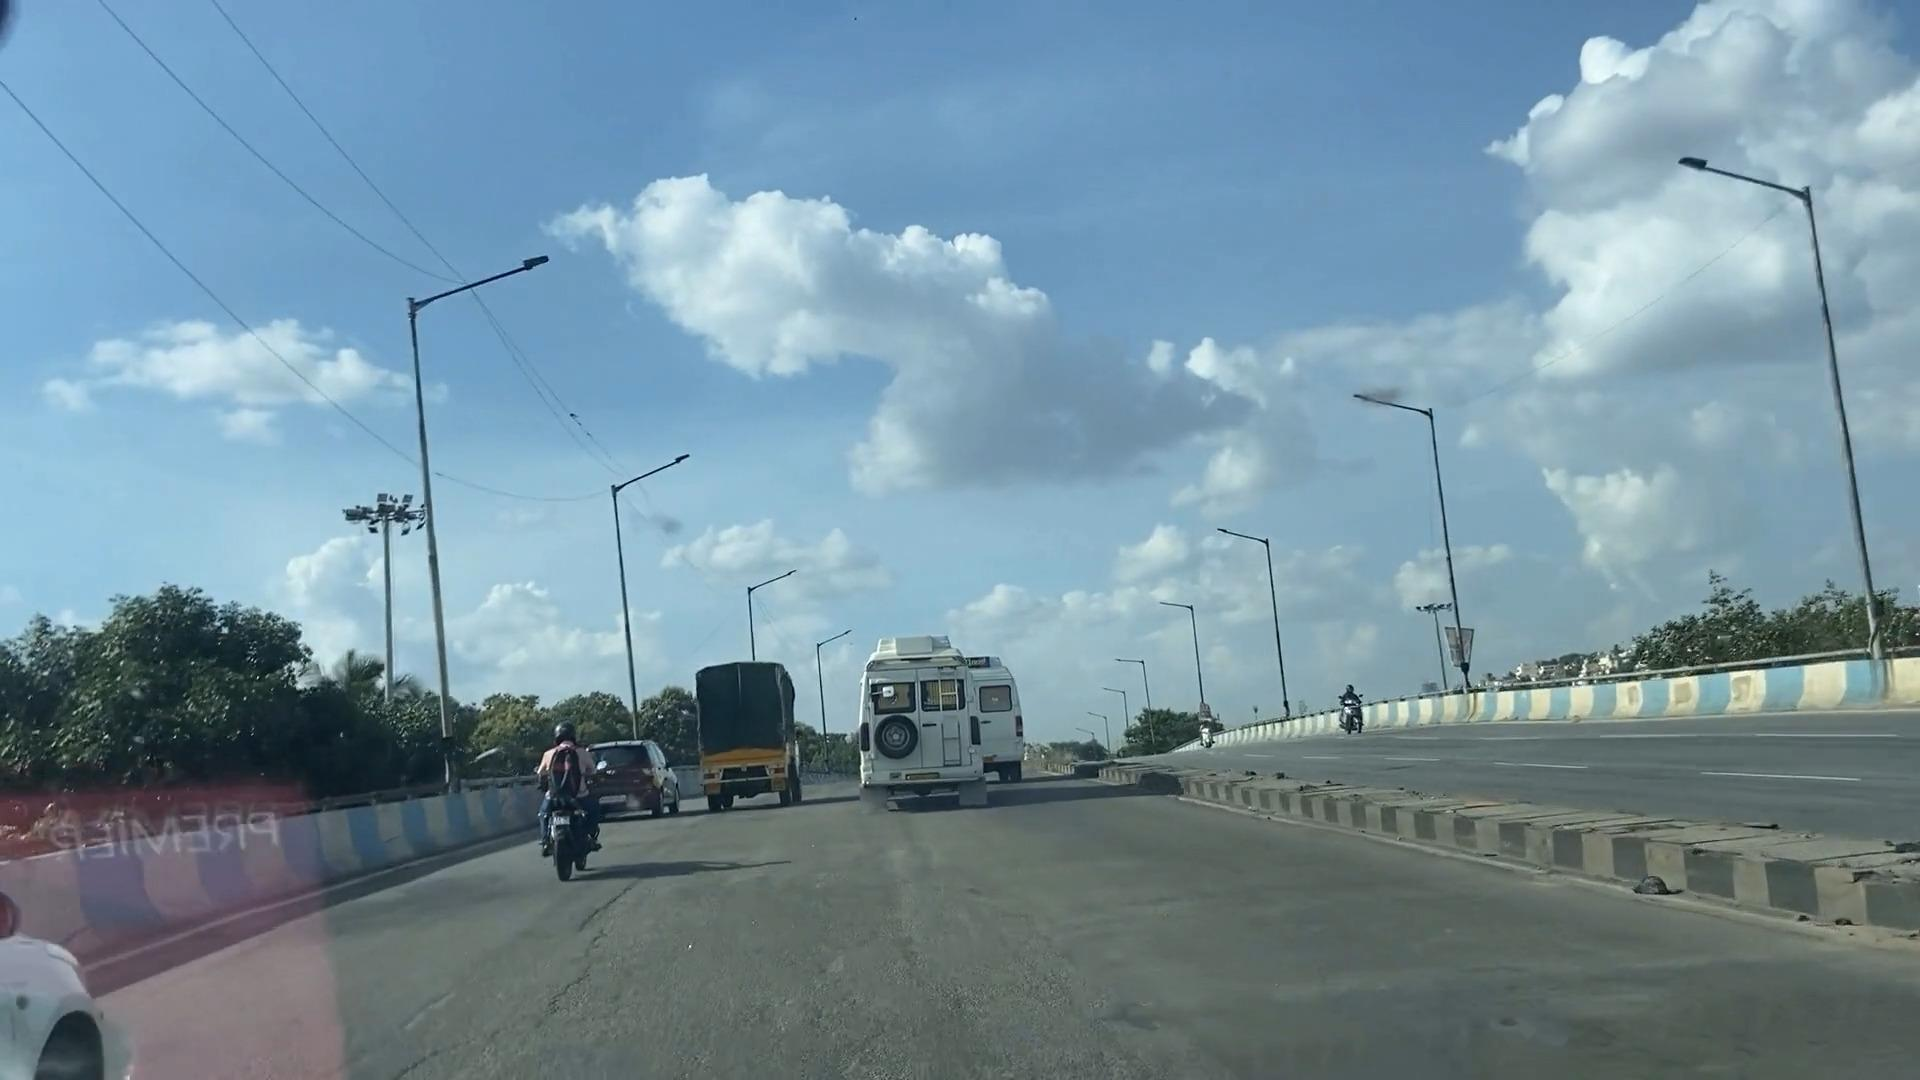HMV: (836, 622, 988, 802), (682, 646, 814, 810)
LMV: (524, 722, 606, 874), (592, 742, 671, 797)
RoadDamages: (394, 870, 1140, 1072)
